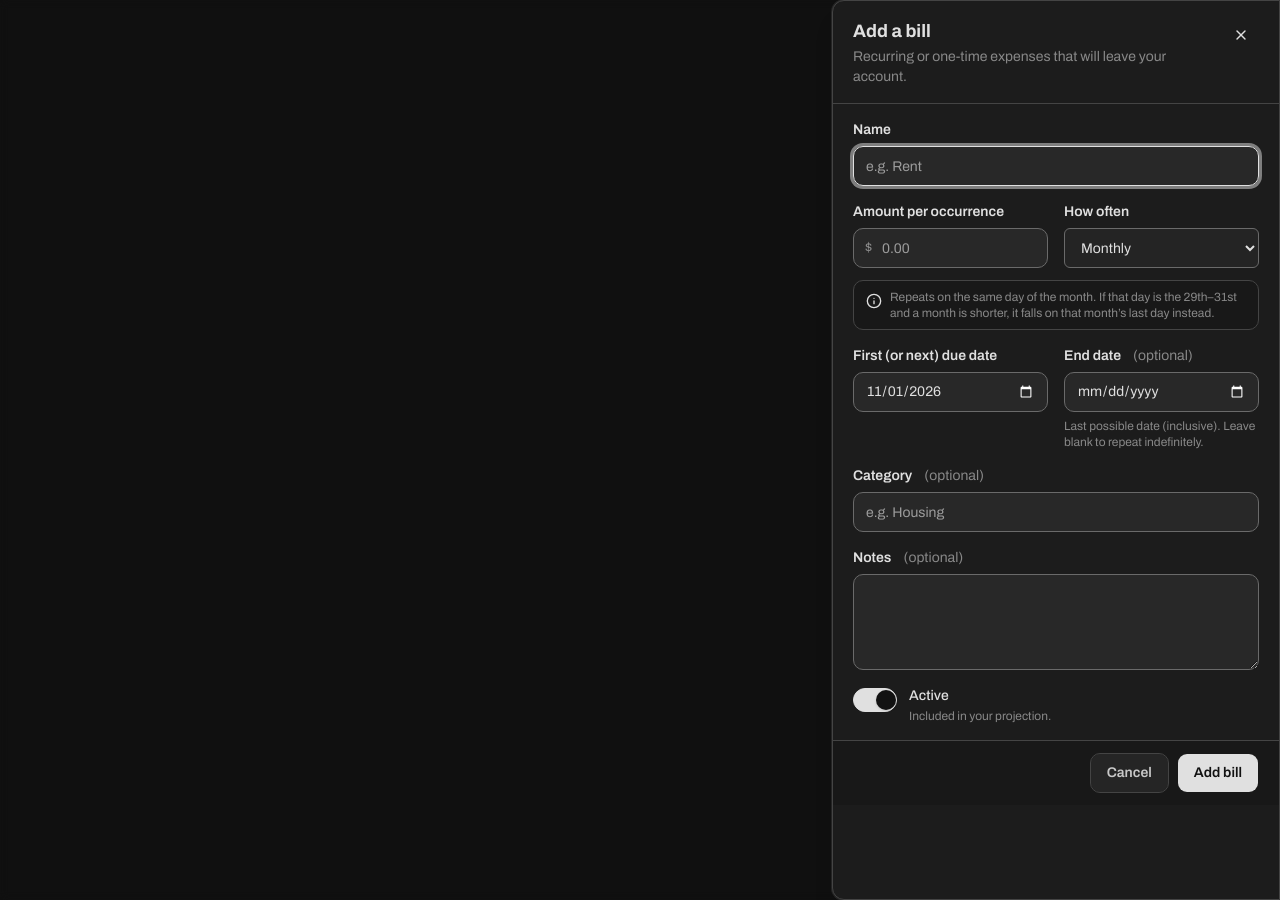
ScheduleFormDialog (bill) › rejects an end date before the first due date
Type "Rent" into the field with test id "bill-name".
click(1056, 166); type("Rent")  # box [853,146,1259,186]
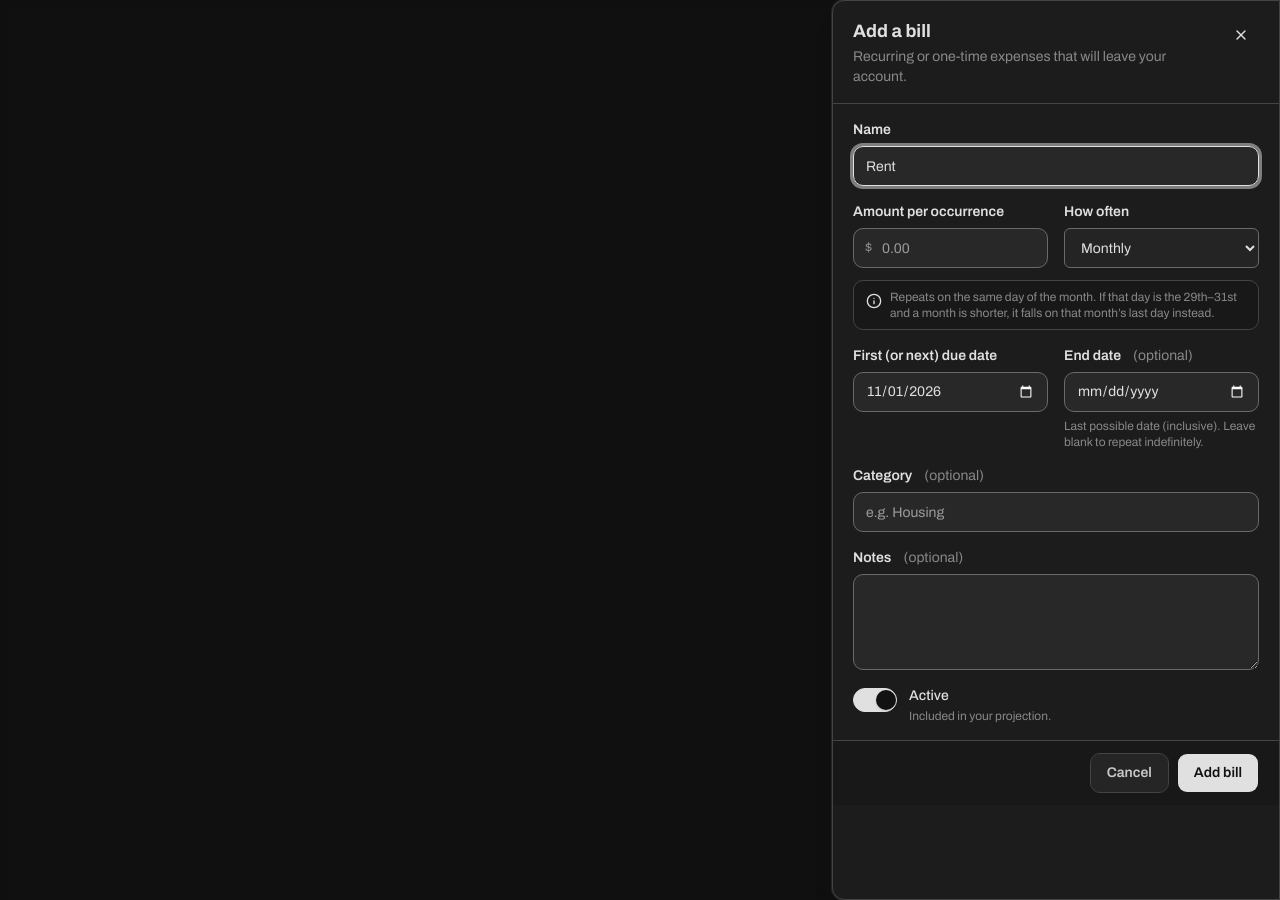
Type "100" into the field with test id "bill-amount".
click(950, 248); type("100")  # box [853,228,1048,268]
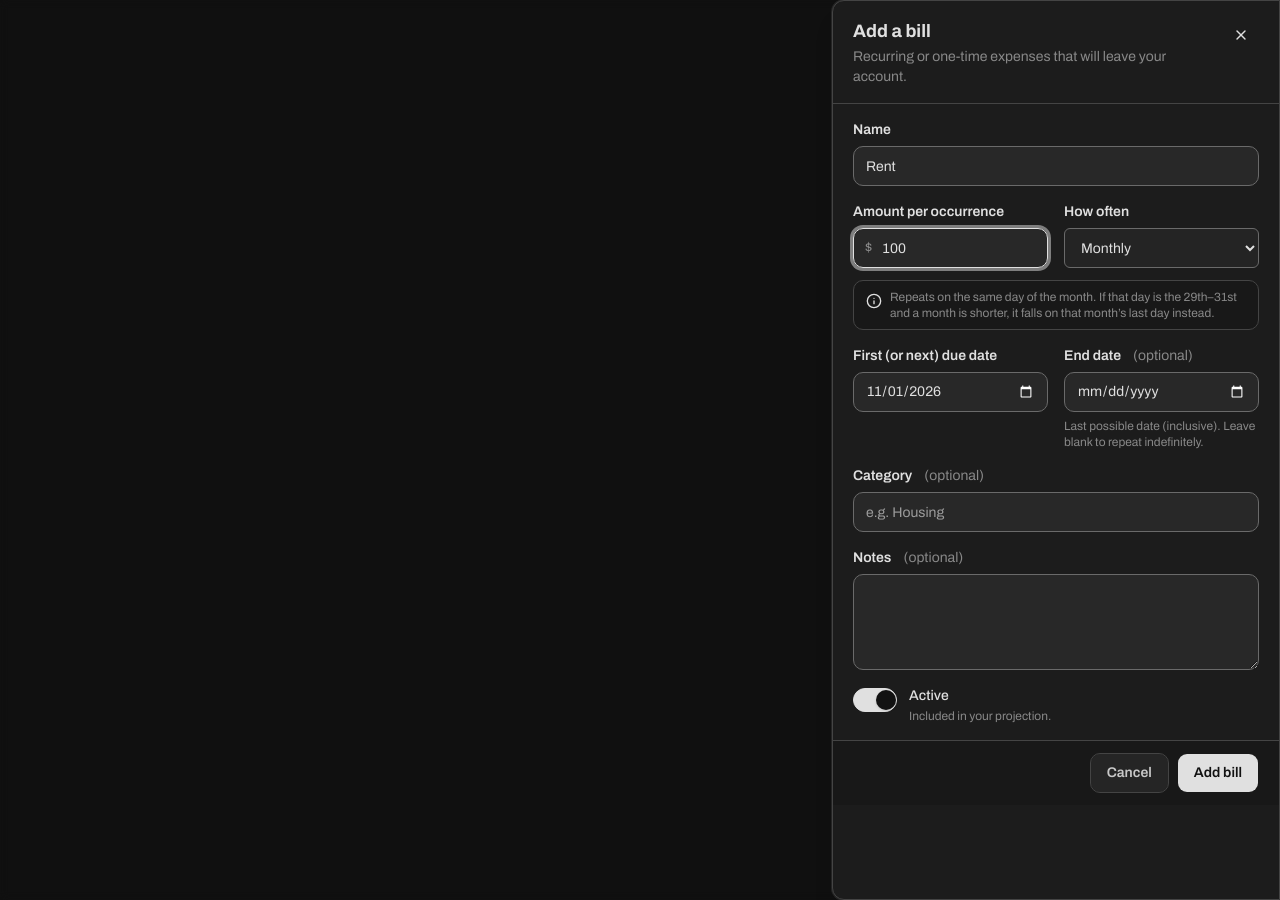
Type "2025-03-10" into the date field with test id "bill-anchor-date".
click(950, 392); type("2025-03-10")  # box [853,372,1048,412]
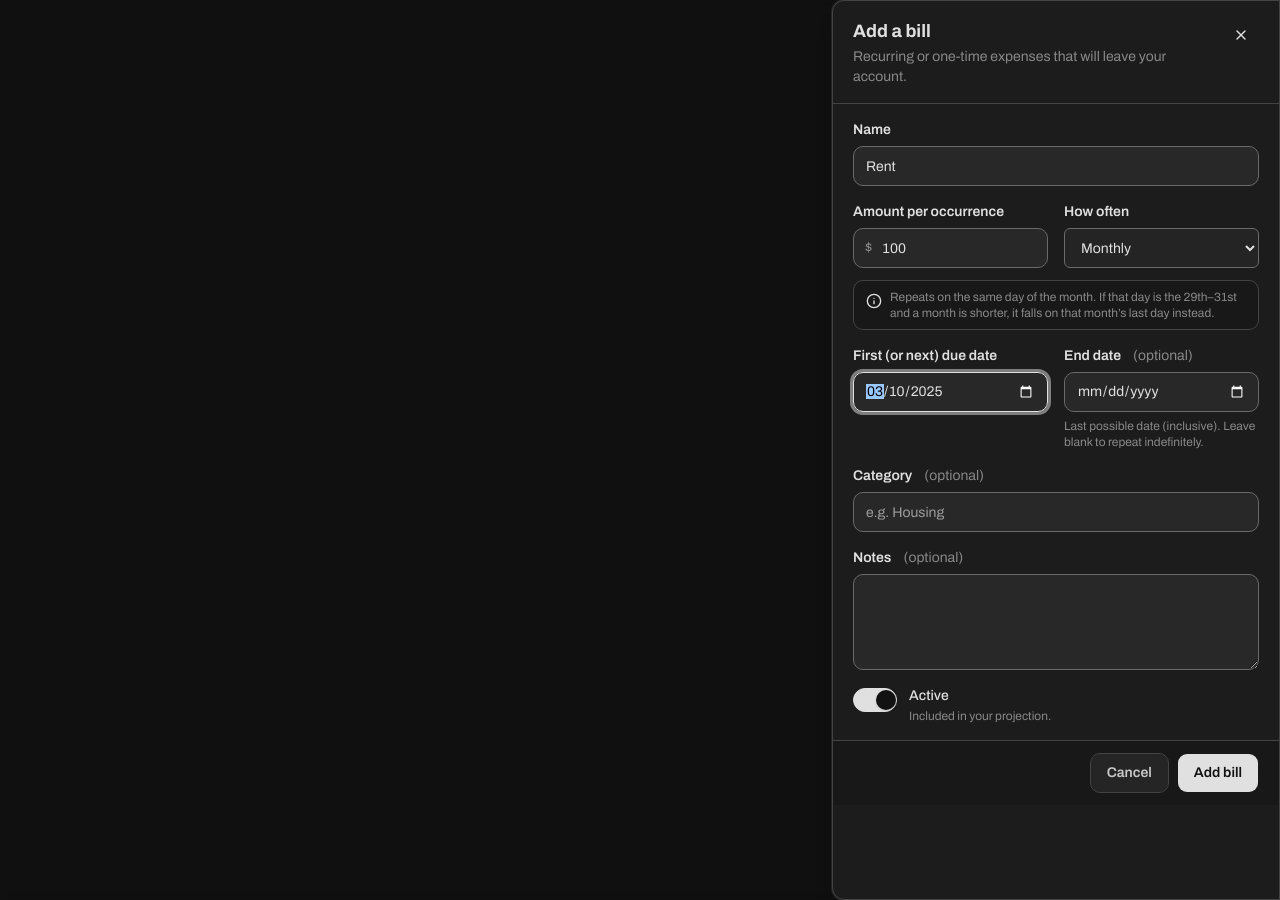
Type "2025-03-09" into the date field with test id "bill-end-date".
click(1162, 392); type("2025-03-09")  # box [1064,372,1259,412]
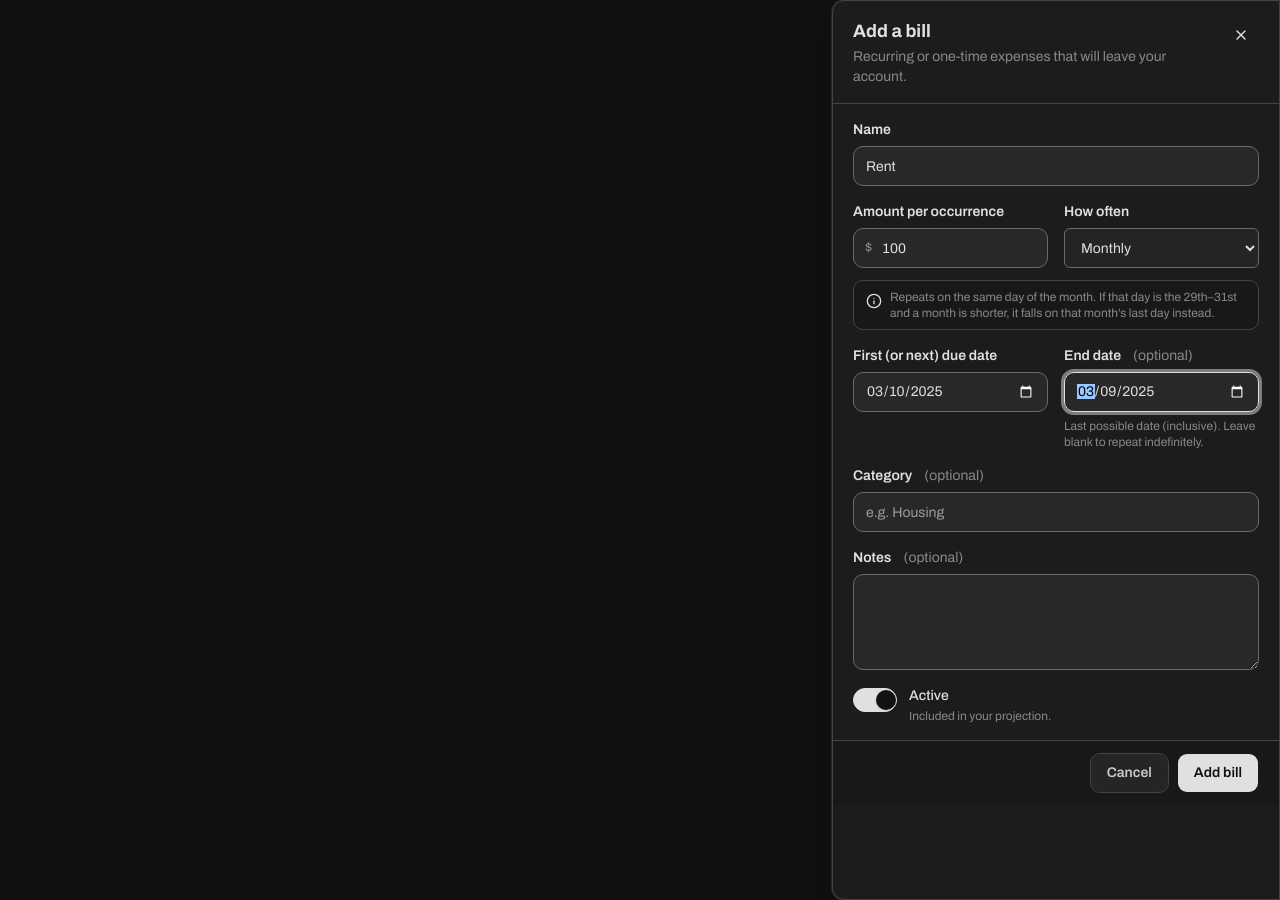
Click the button with test id "bill-form-submit".
click(1218, 773)  # box [1177,753,1259,793]
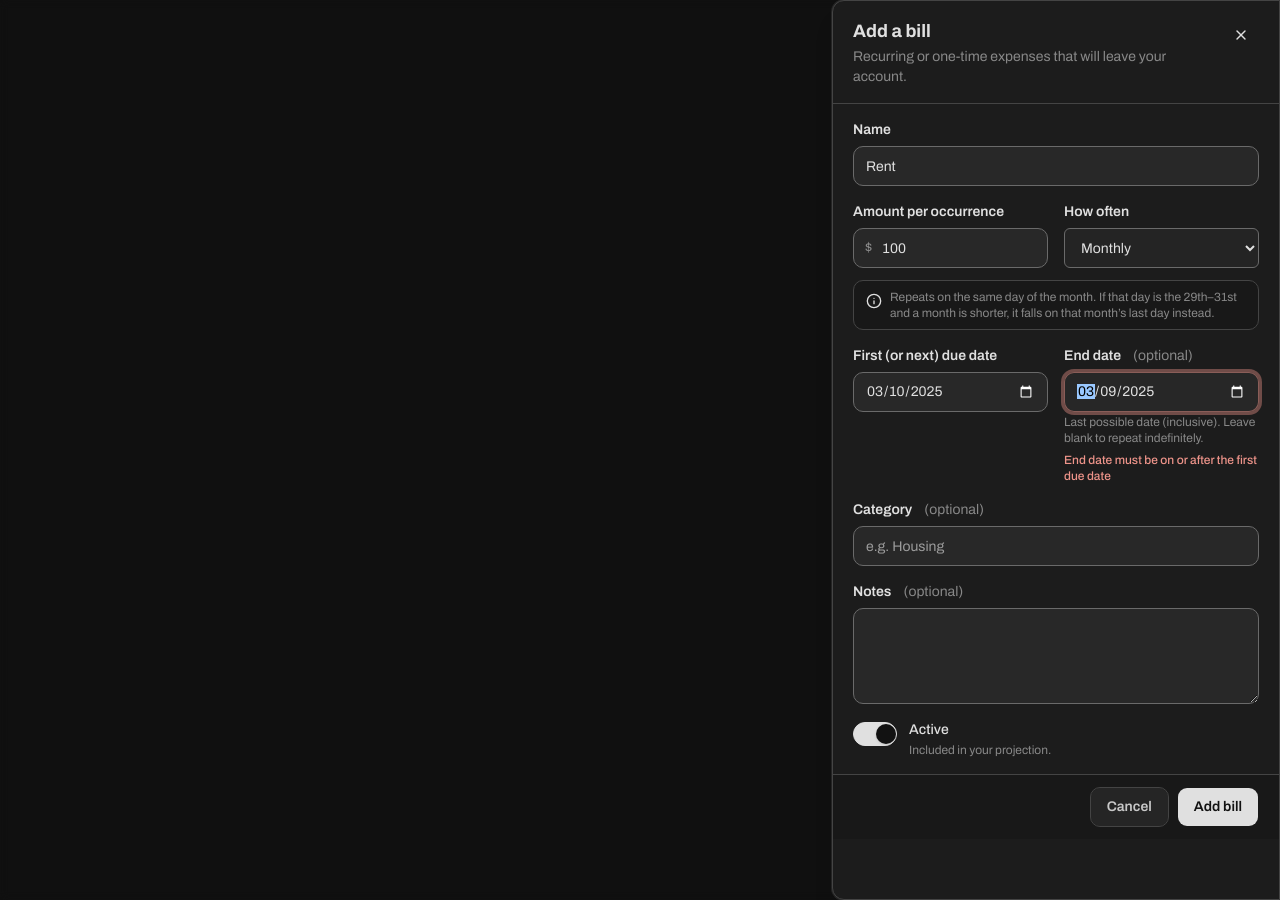
Expected: the message "End date must be on or after the first due date" is shown, [1064,452,1259,484]
